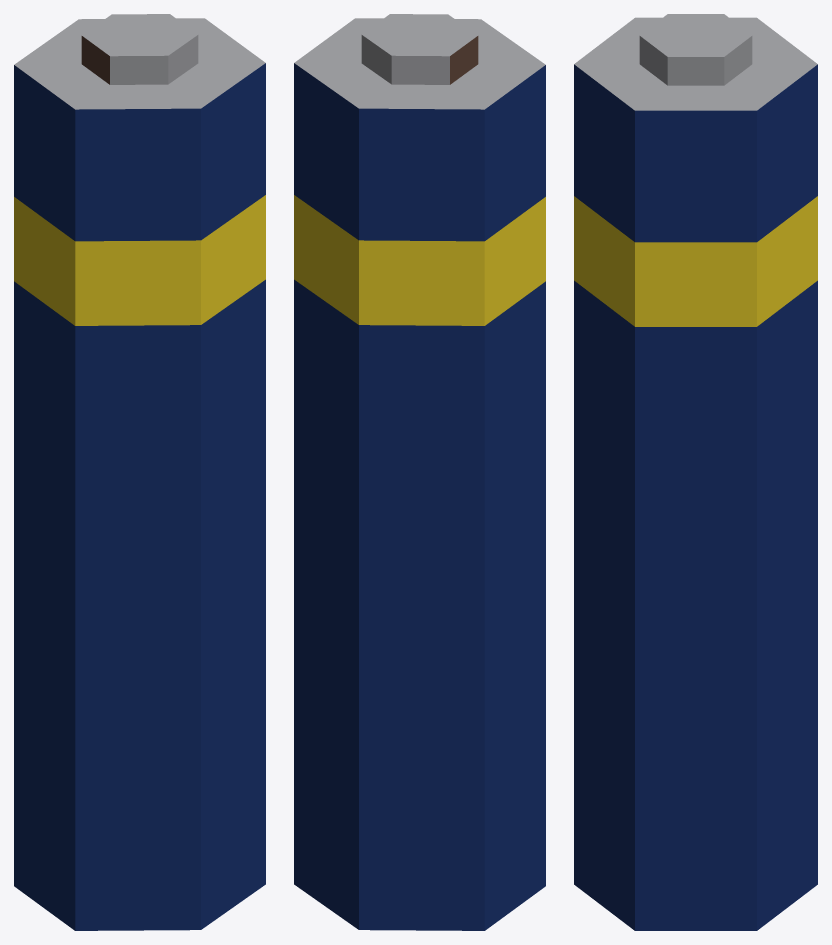
File: Battery_Small.fbx
The picture shows the model from 3 angles, left to right: view 1: azimuth 30°, elevation 25°; view 2: azimuth 150°, elevation 25°; view 3: azimuth 270°, elevation 25°; orthographic projection.
Parts seen in each view (by area): view 1: Batterie_Small; view 2: Batterie_Small; view 3: Batterie_Small.
Boxes of the visible parts, x1,y1,x2,y2 form: Batterie_Small: [14, 14, 265, 930]; Batterie_Small: [294, 14, 545, 930]; Batterie_Small: [574, 14, 817, 930].
Bounding box in the file's own units: 1.29 × 5.48 × 1.43.
